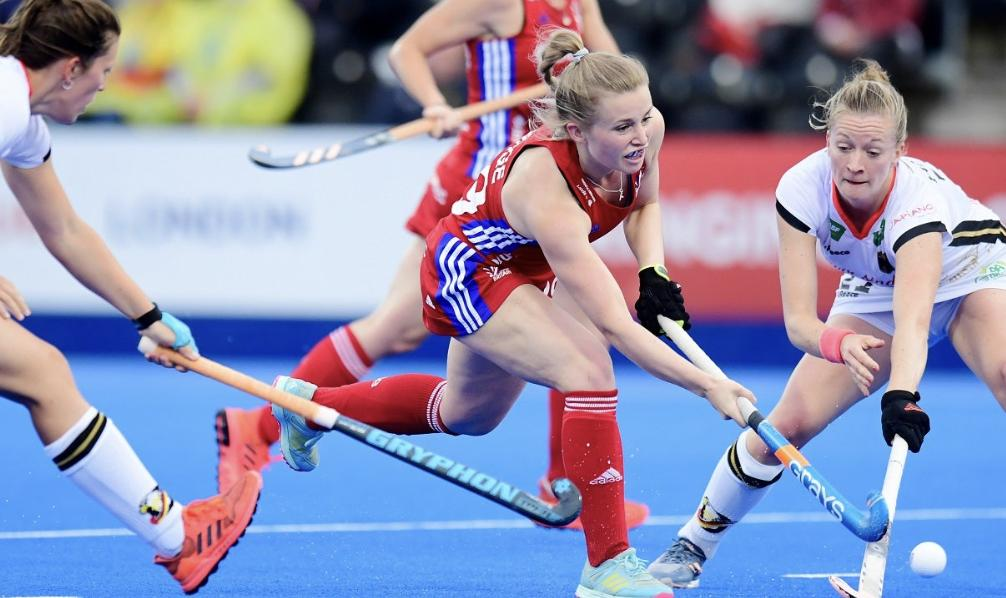ball: (899, 538, 963, 582)
